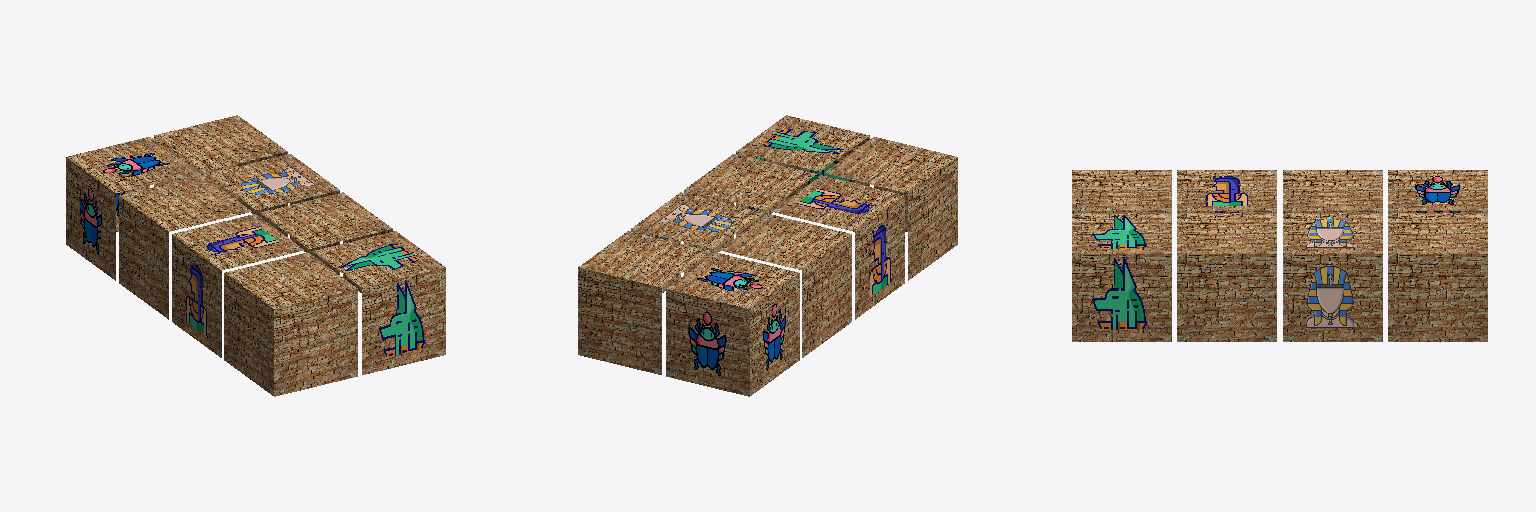
3 views of the same model, side by side, from view 1: azimuth 30°, elevation 25°; view 2: azimuth 150°, elevation 25°; view 3: azimuth 270°, elevation 25° (orthographic).
Parts seen in each view (by area): view 1: laberintoCompletoEgipto_Box704; view 2: laberintoCompletoEgipto_Box704; view 3: laberintoCompletoEgipto_Box704.
Part boxes in pixels (x1,y1,x2,y2): laberintoCompletoEgipto_Box704: (66,115,445,396); laberintoCompletoEgipto_Box704: (578,115,957,396); laberintoCompletoEgipto_Box704: (1072,170,1487,341).
Size of the model in its own units: 4.13 by 2.02 by 8.68.
Materials: 5 (5 with a texture image).